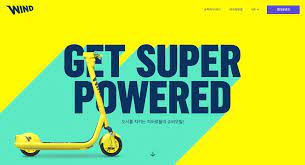kick_body: (42, 141, 93, 148)
kick_wheel: (17, 133, 40, 156), (100, 134, 122, 156)
